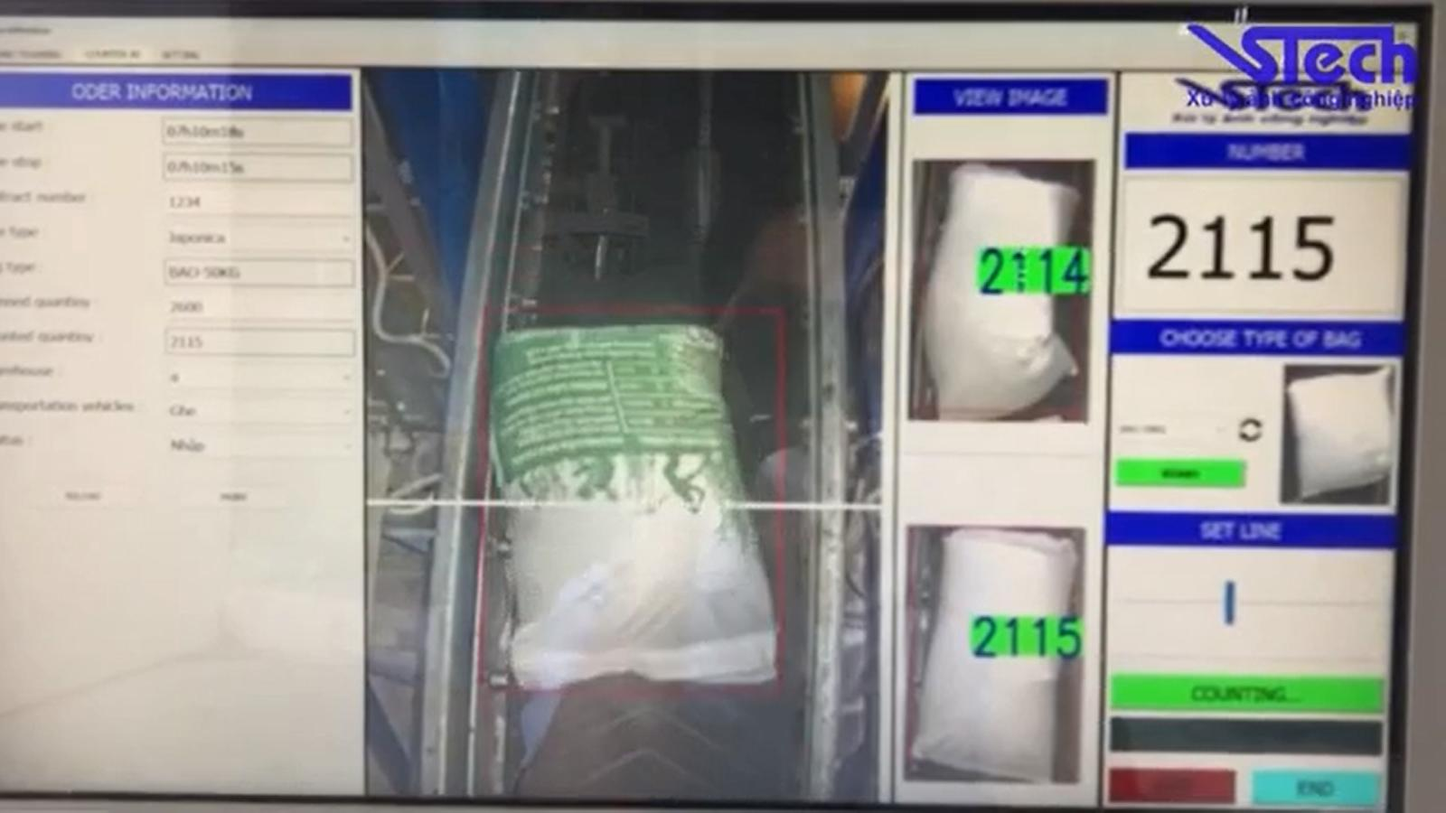rice-bag: (490, 322, 775, 687), (912, 527, 1075, 781), (922, 164, 1077, 417)
